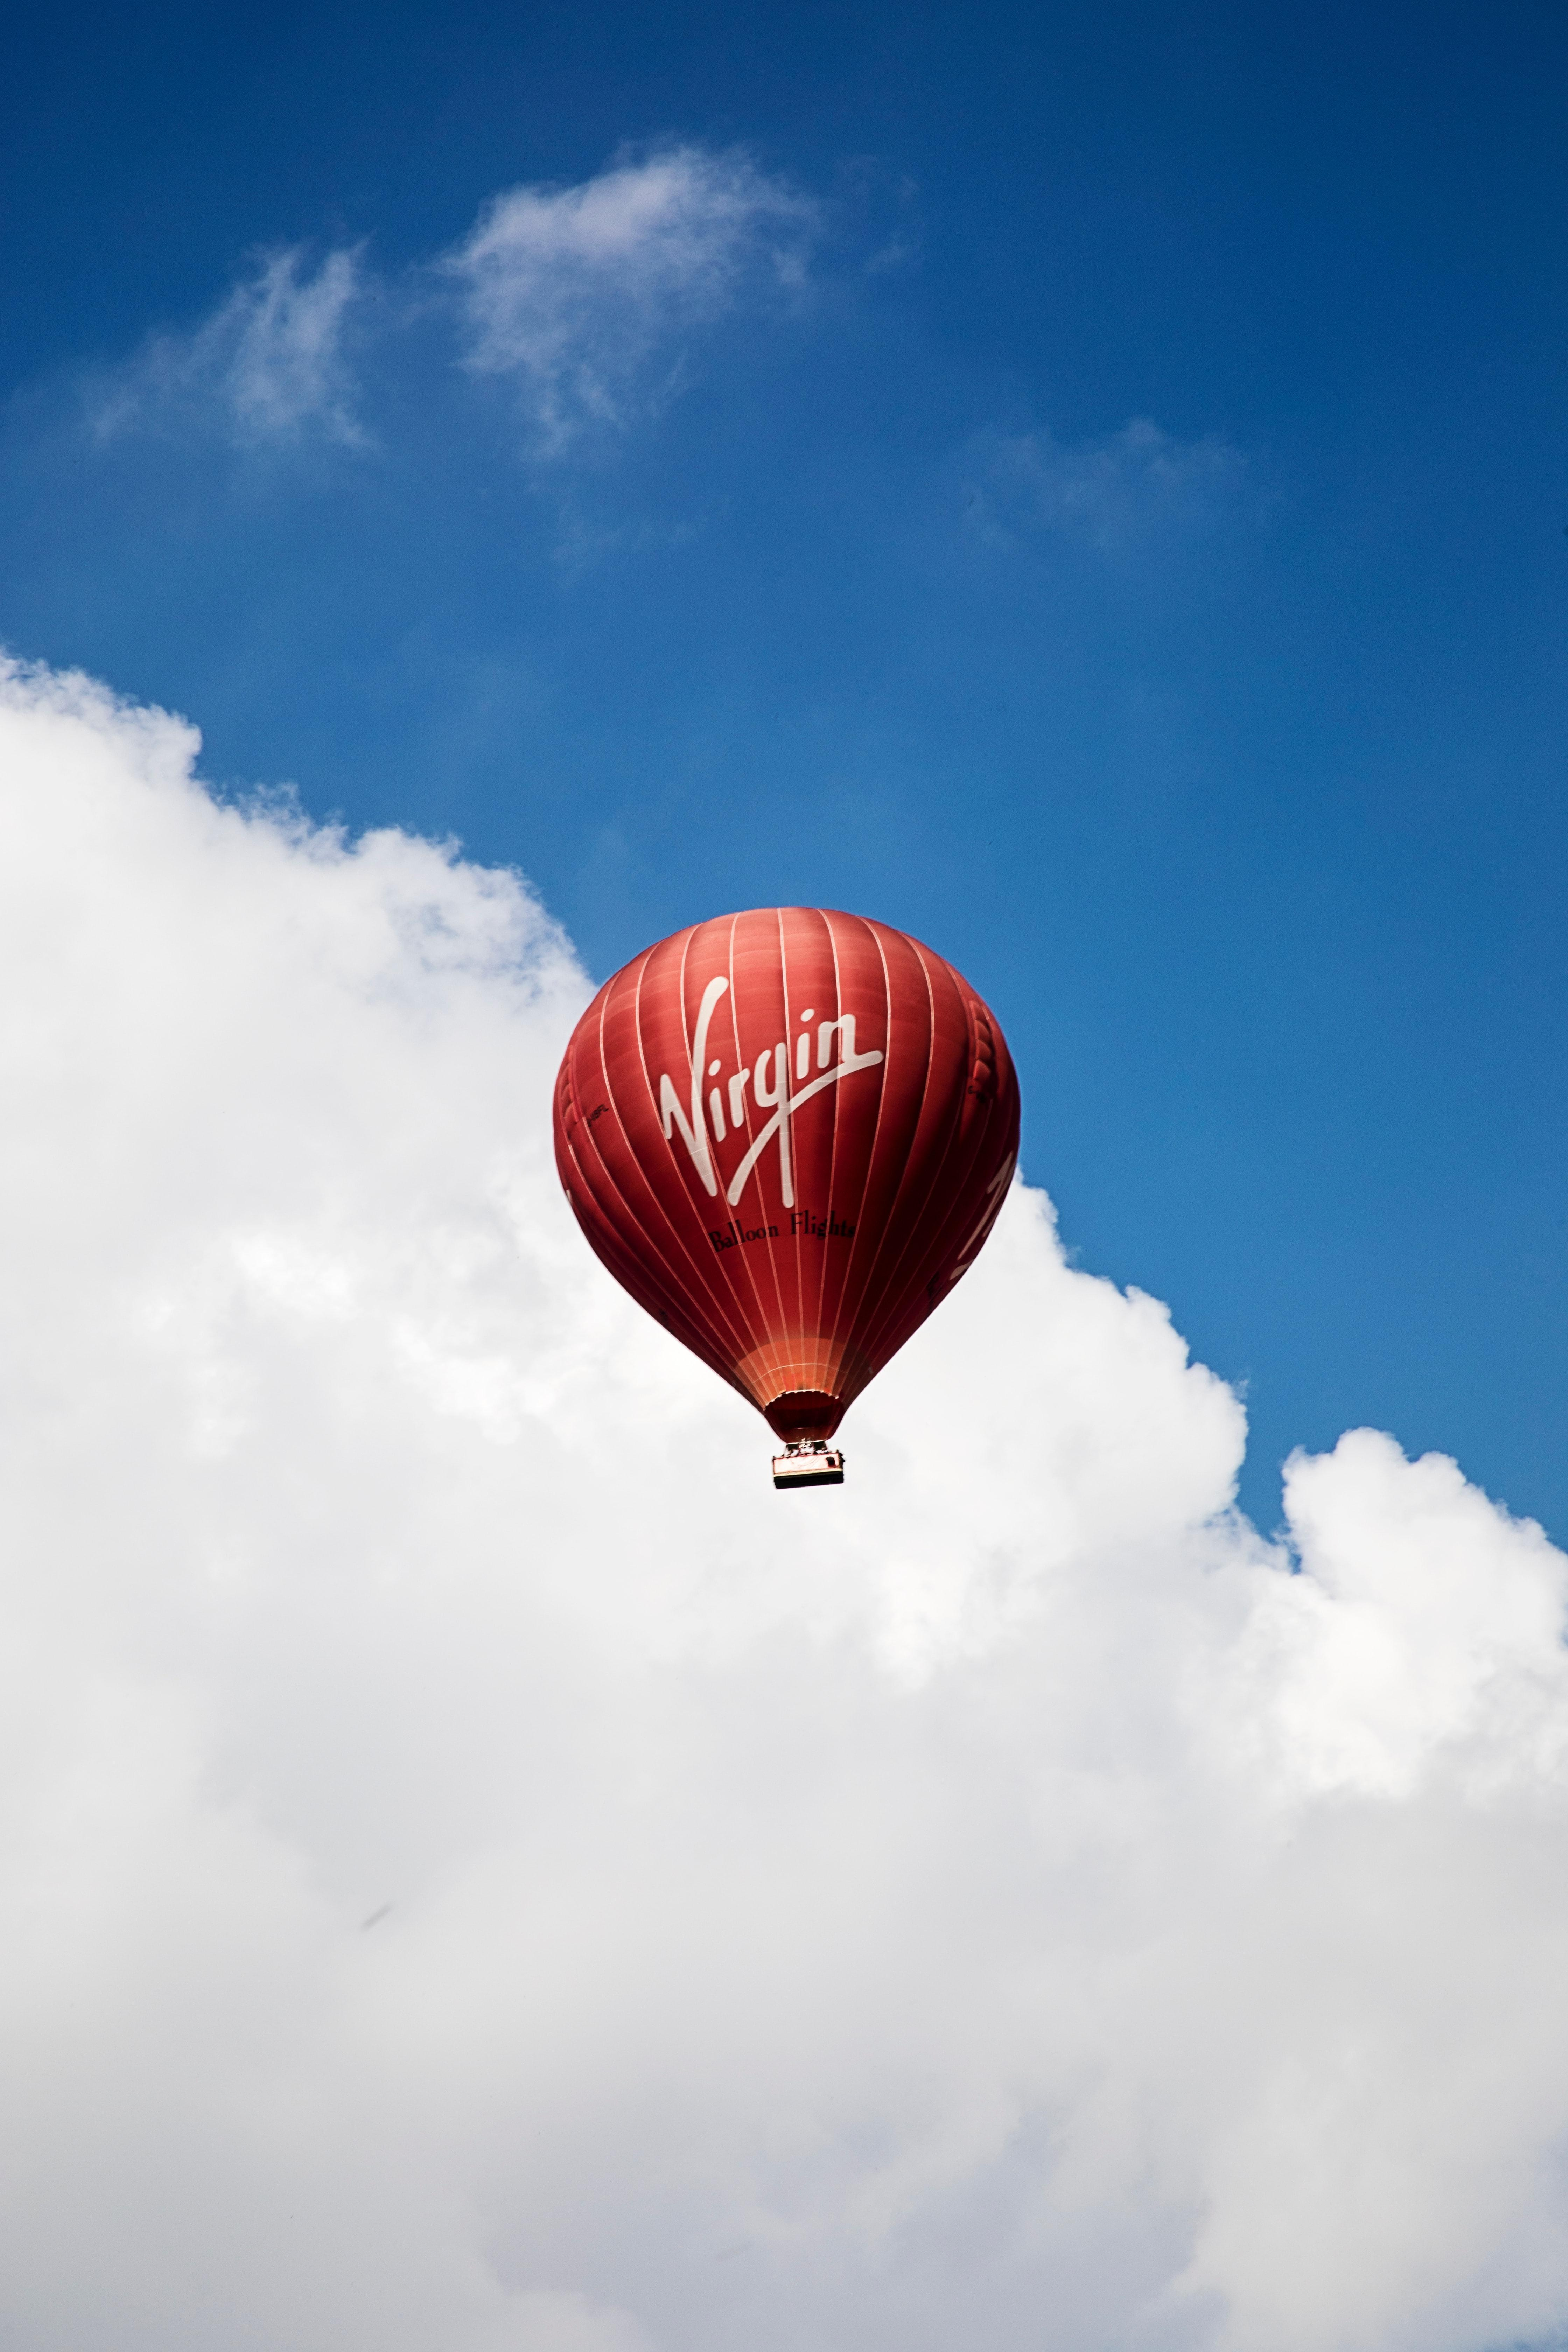hot air ballon: (546, 906, 1020, 1484)
